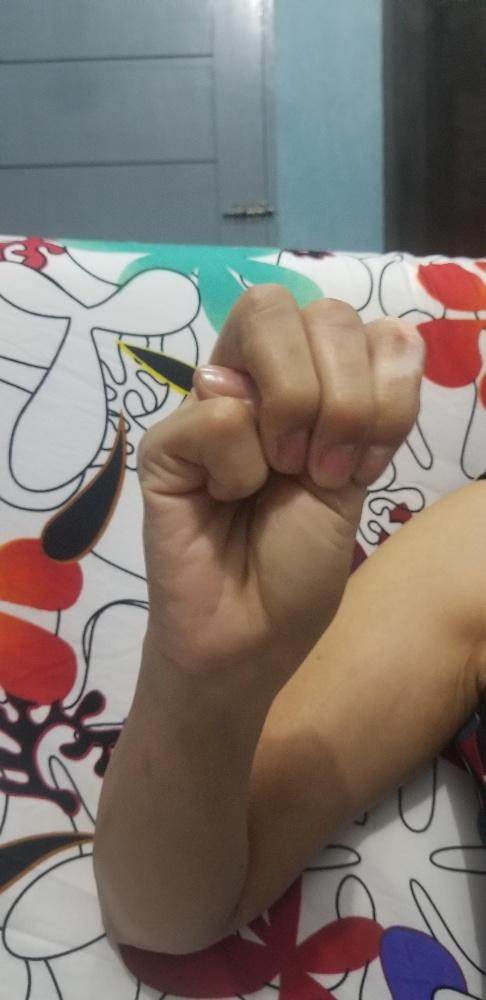m: (133, 280, 427, 676)
